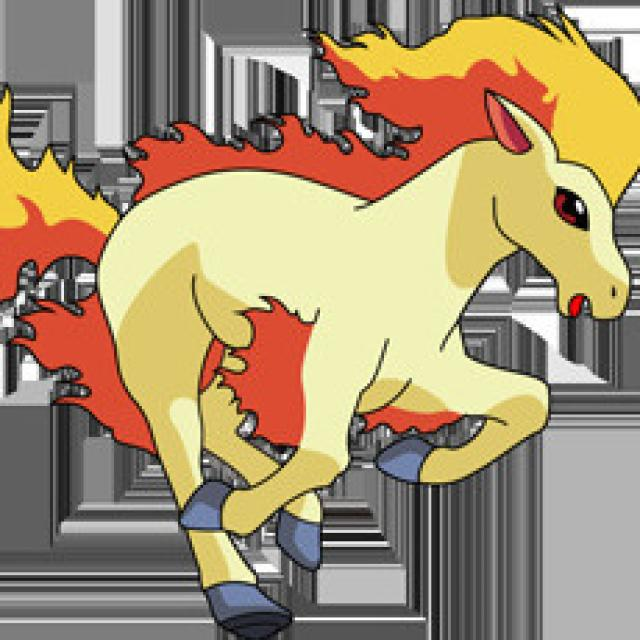Ponyta: (108, 27, 637, 640)
